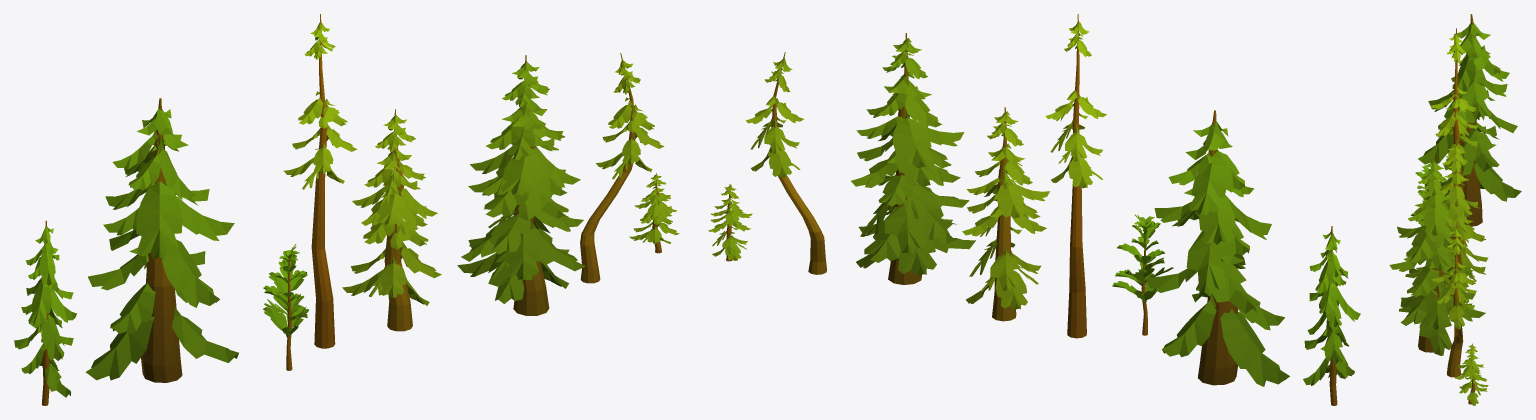
Rendered from background2.glb.
The picture shows the model from 3 angles, left to right: view 1: azimuth 30°, elevation 25°; view 2: azimuth 150°, elevation 25°; view 3: azimuth 270°, elevation 25°; orthographic projection. The views are drawn at different scales.
Visible parts, largest first — view 1: SM_FreeTree_03_Free_Tree_M_0; view 2: SM_FreeTree_03_Free_Tree_M_0; view 3: SM_FreeTree_03_Free_Tree_M_0.
Part boxes in pixels (x1,y1,x2,y2): SM_FreeTree_03_Free_Tree_M_0: (14, 14, 679, 405); SM_FreeTree_03_Free_Tree_M_0: (708, 14, 1360, 405); SM_FreeTree_03_Free_Tree_M_0: (1389, 14, 1521, 405).
Bounding box in the file's own units: 25.55 × 12.27 × 5.95.
1 material, 1 textured.
